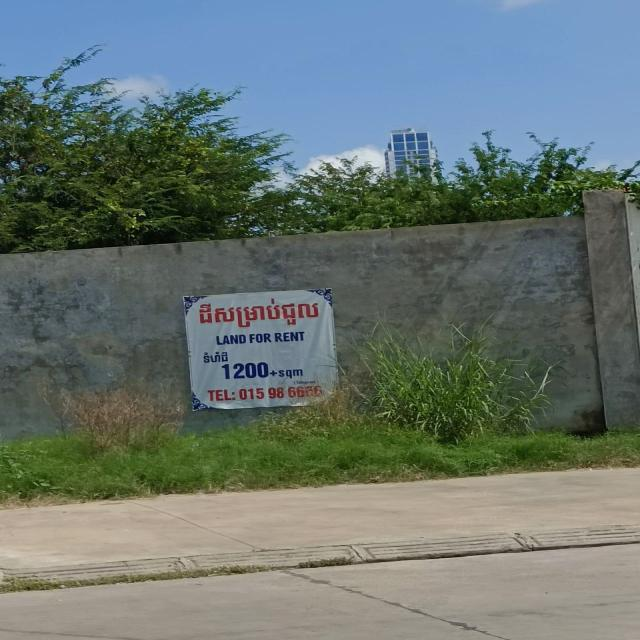Yolov11kh: (194, 295, 325, 330), (238, 384, 324, 401), (219, 360, 269, 382), (200, 348, 230, 364)
